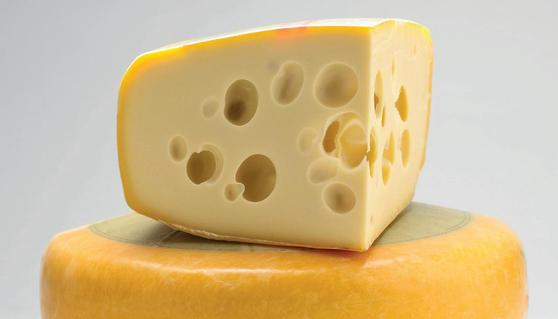cheese: (115, 14, 434, 252)
